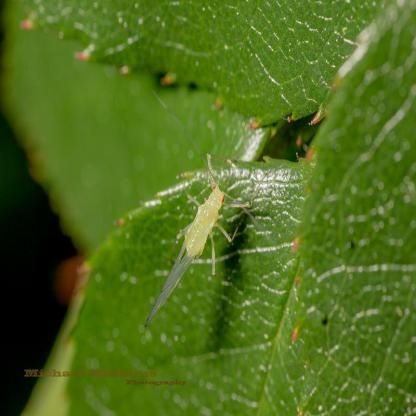aphid: (140, 158, 250, 329)
